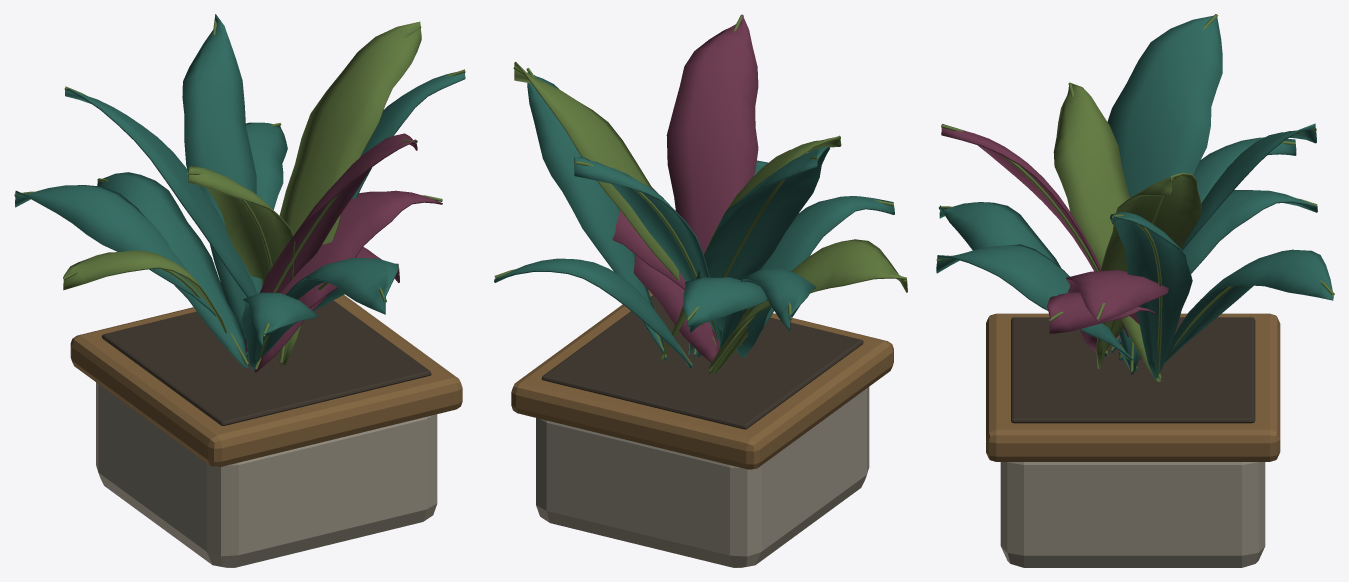
Rendered from planter.glb.
The picture shows the model from 3 angles, left to right: view 1: azimuth 30°, elevation 25°; view 2: azimuth 150°, elevation 25°; view 3: azimuth 270°, elevation 25°; orthographic projection. The views are drawn at different scales.
Visible parts, largest first — view 1: planter; view 2: planter; view 3: planter.
Part boxes in pixels (x1,y1,x2,y2): planter: (14, 14, 465, 567); planter: (494, 14, 907, 567); planter: (936, 14, 1334, 567).
Bounding box in the file's own units: 1.56 × 1.61 × 1.35.
